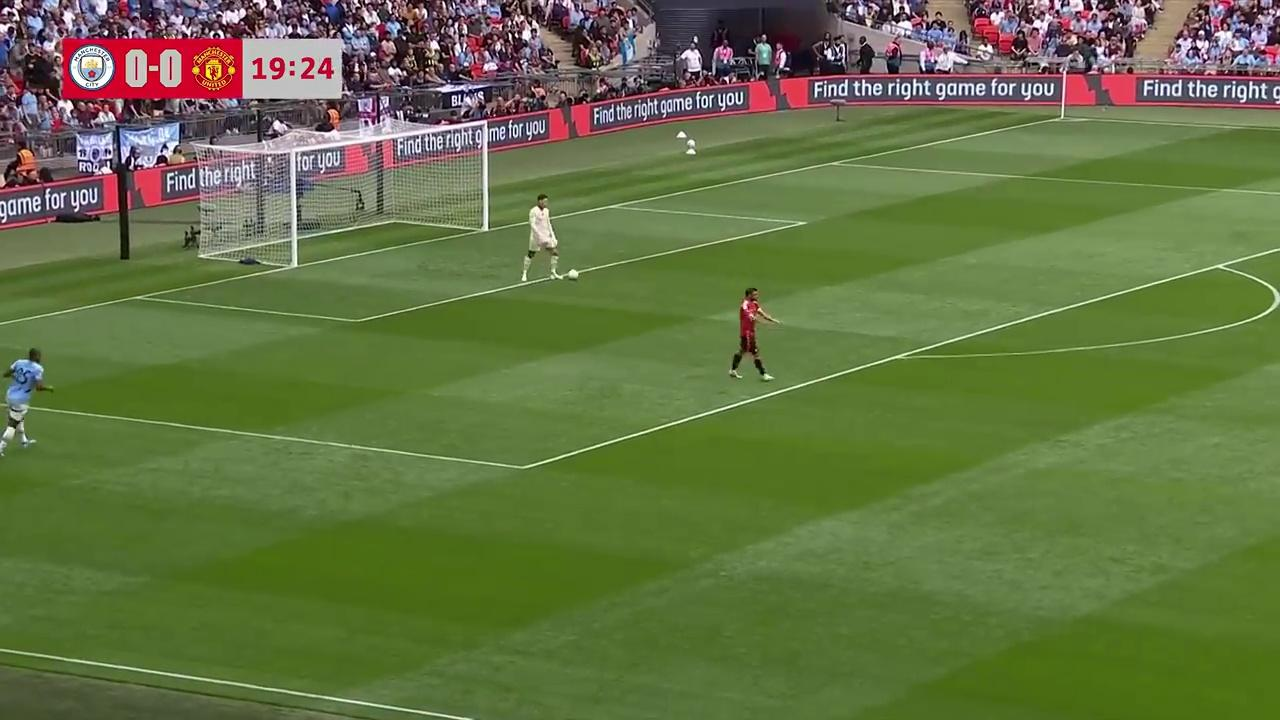ball: (566, 265, 581, 280)
player: (0, 344, 49, 455), (728, 287, 779, 382), (520, 193, 560, 283)
